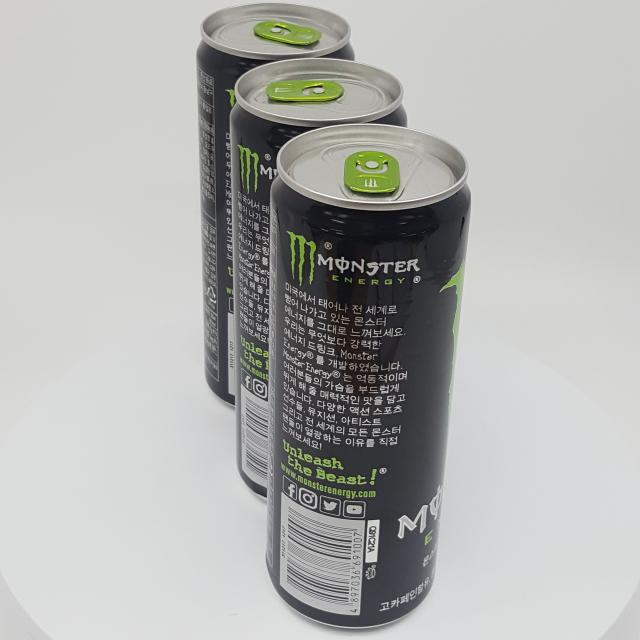--------355ML: (266, 123, 470, 629)
